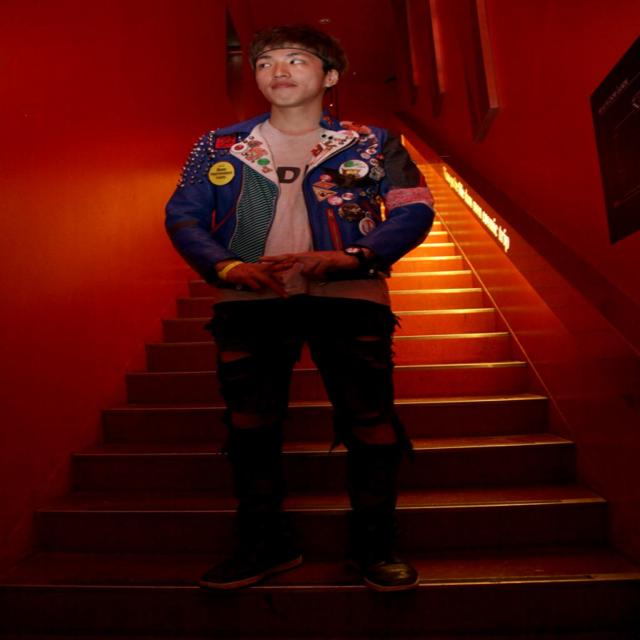nomask: (257, 41, 321, 105)
